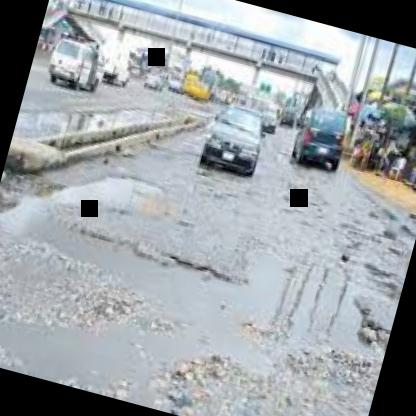car: (190, 93, 278, 185), (40, 28, 116, 103), (286, 104, 358, 178), (143, 68, 166, 95)
